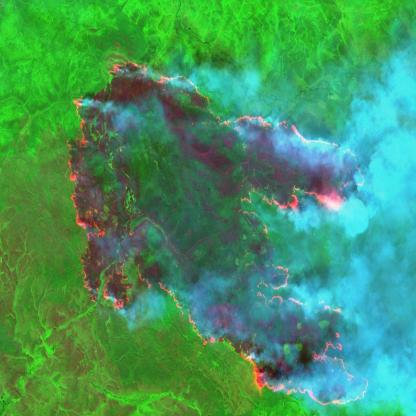fire: (66, 49, 371, 416)
